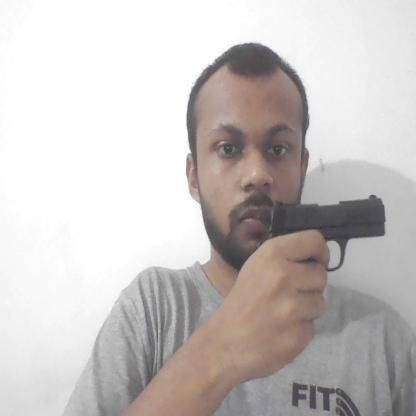handgun: (256, 191, 388, 275)
